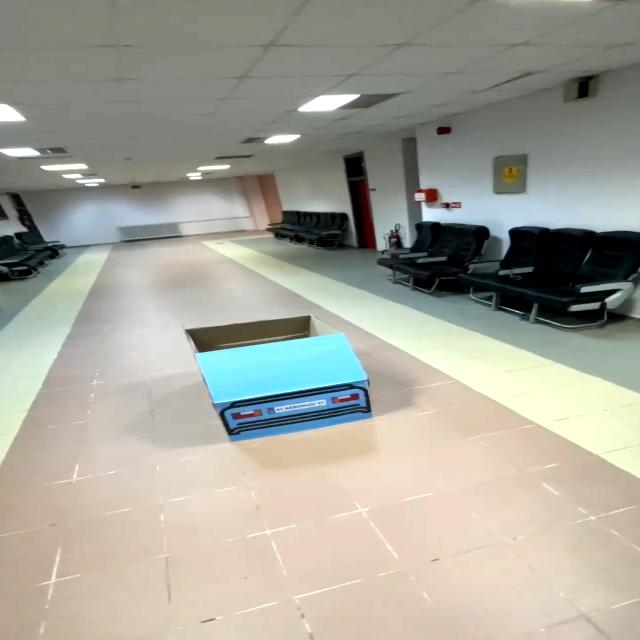blue_car: (151, 302, 397, 454)
